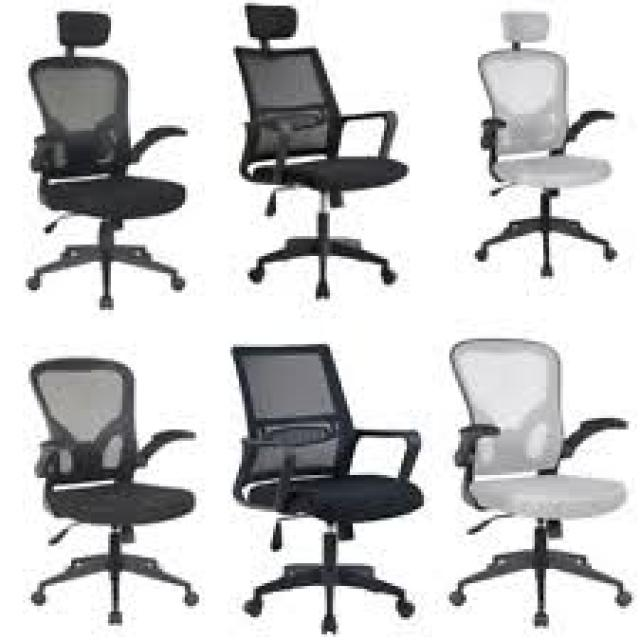chair: (201, 0, 431, 336), (2, 0, 212, 348), (202, 323, 430, 640), (429, 0, 640, 324), (434, 319, 640, 640), (12, 323, 215, 640)
